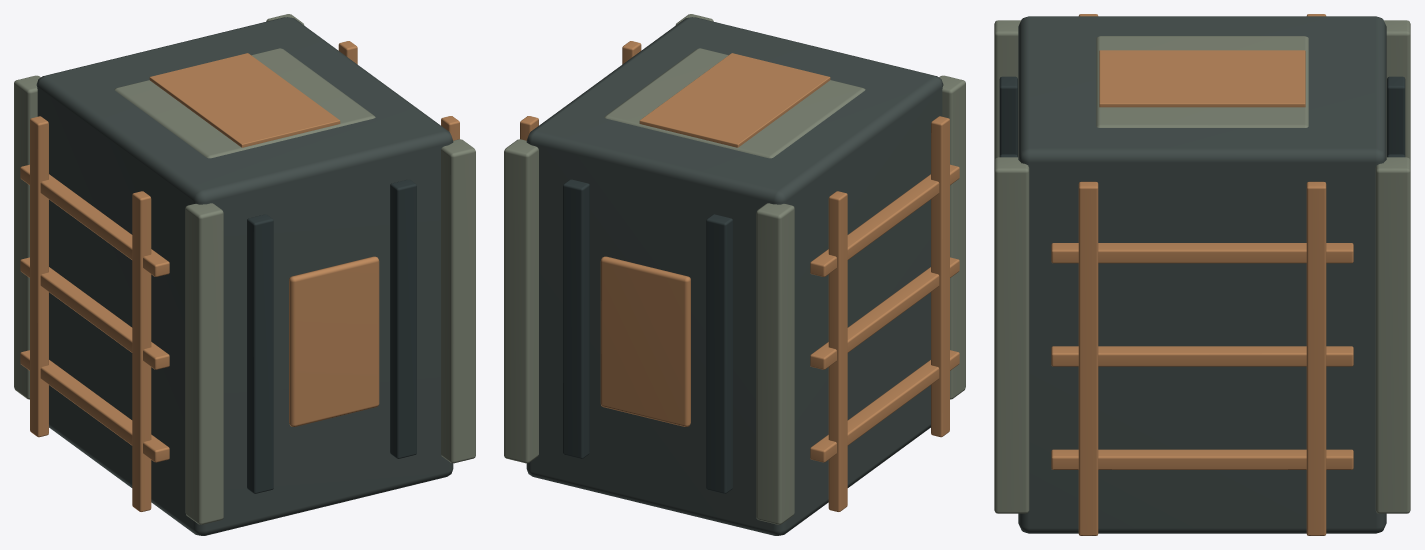
File: relay-top-1.glb
3 views of the same model, side by side, from view 1: azimuth 30°, elevation 25°; view 2: azimuth 150°, elevation 25°; view 3: azimuth 270°, elevation 25° (orthographic). The views are drawn at different scales.
Visible parts, largest first — view 1: relay_0, relay_3, relay_1, relay_2; view 2: relay_0, relay_3, relay_1, relay_2; view 3: relay_0, relay_3, relay_1, relay_2.
Boxes of the visible parts, left/top/right/bottom form: relay_0: left=36, top=17, right=453, bottom=535; relay_3: left=20, top=41, right=459, bottom=511; relay_1: left=14, top=14, right=475, bottom=524; relay_2: left=247, top=179, right=416, bottom=493; relay_0: left=526, top=17, right=943, bottom=535; relay_3: left=520, top=41, right=959, bottom=511; relay_1: left=504, top=14, right=965, bottom=524; relay_2: left=563, top=179, right=732, bottom=493; relay_0: left=1018, top=16, right=1386, bottom=533; relay_3: left=1051, top=14, right=1353, bottom=535; relay_1: left=994, top=20, right=1410, bottom=513; relay_2: left=999, top=76, right=1405, bottom=157.
Size of the model in its own units: 0.94 by 0.984 by 0.95.
